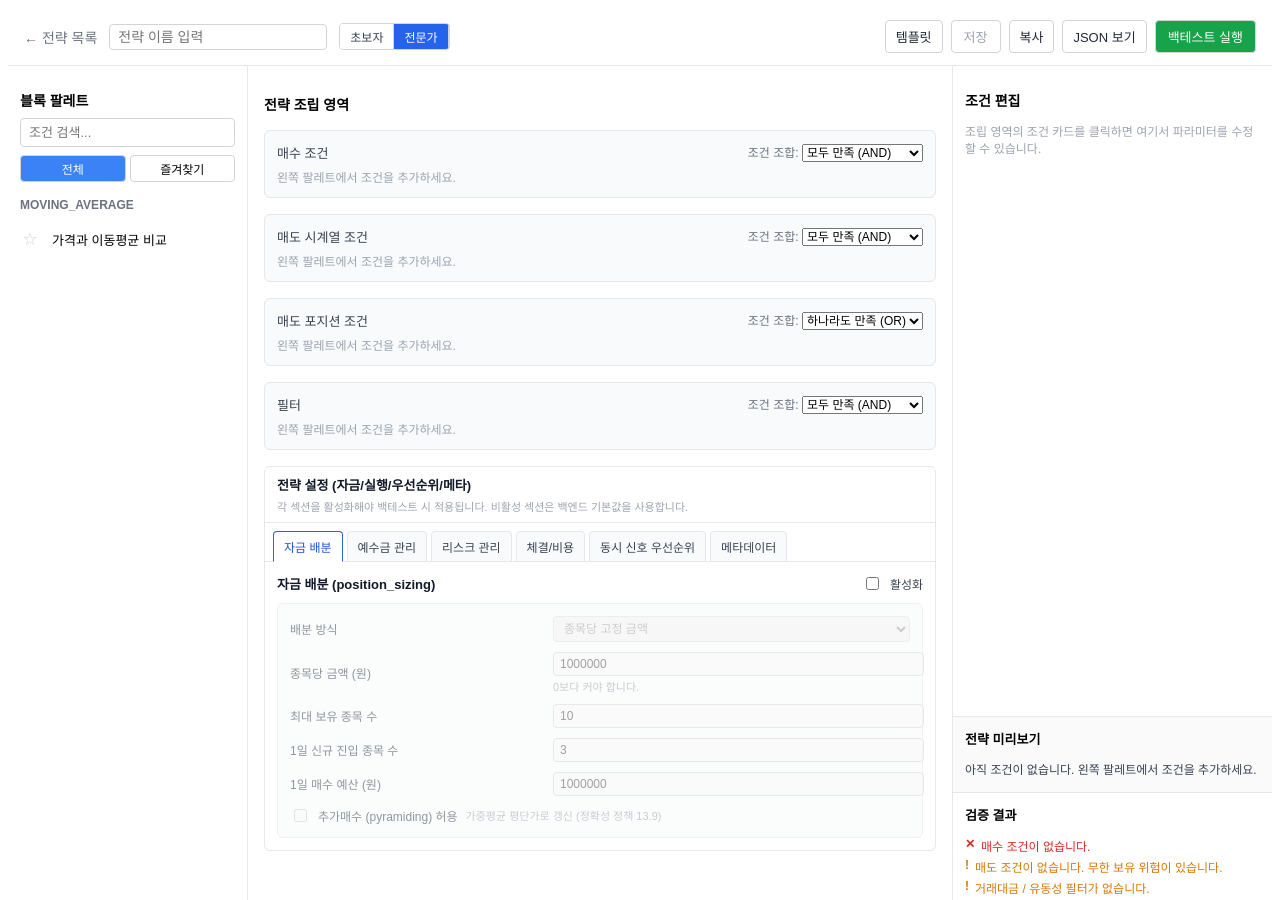
ConditionEditorPanel › number 입력 변경 → 카드 문장과 미리보기 모두 갱신
This screenshot has width=1280, height=900.
Click the button "가격과 이동평균 비교" at (140, 239), box [44,224,235,255]
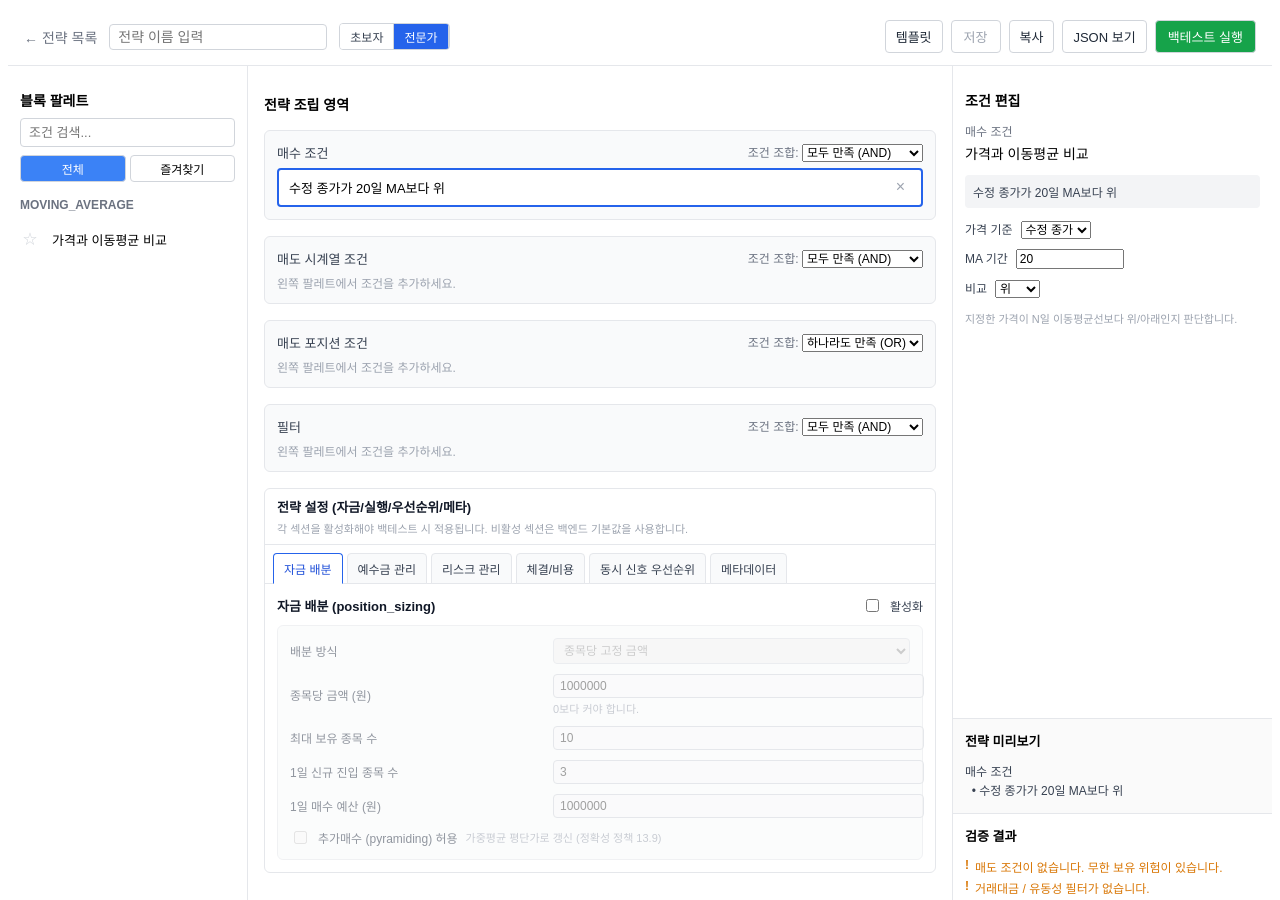
Replace the text in the number field labelled "MA 기간" with "5" at (1070, 259), box [1016,249,1124,269]
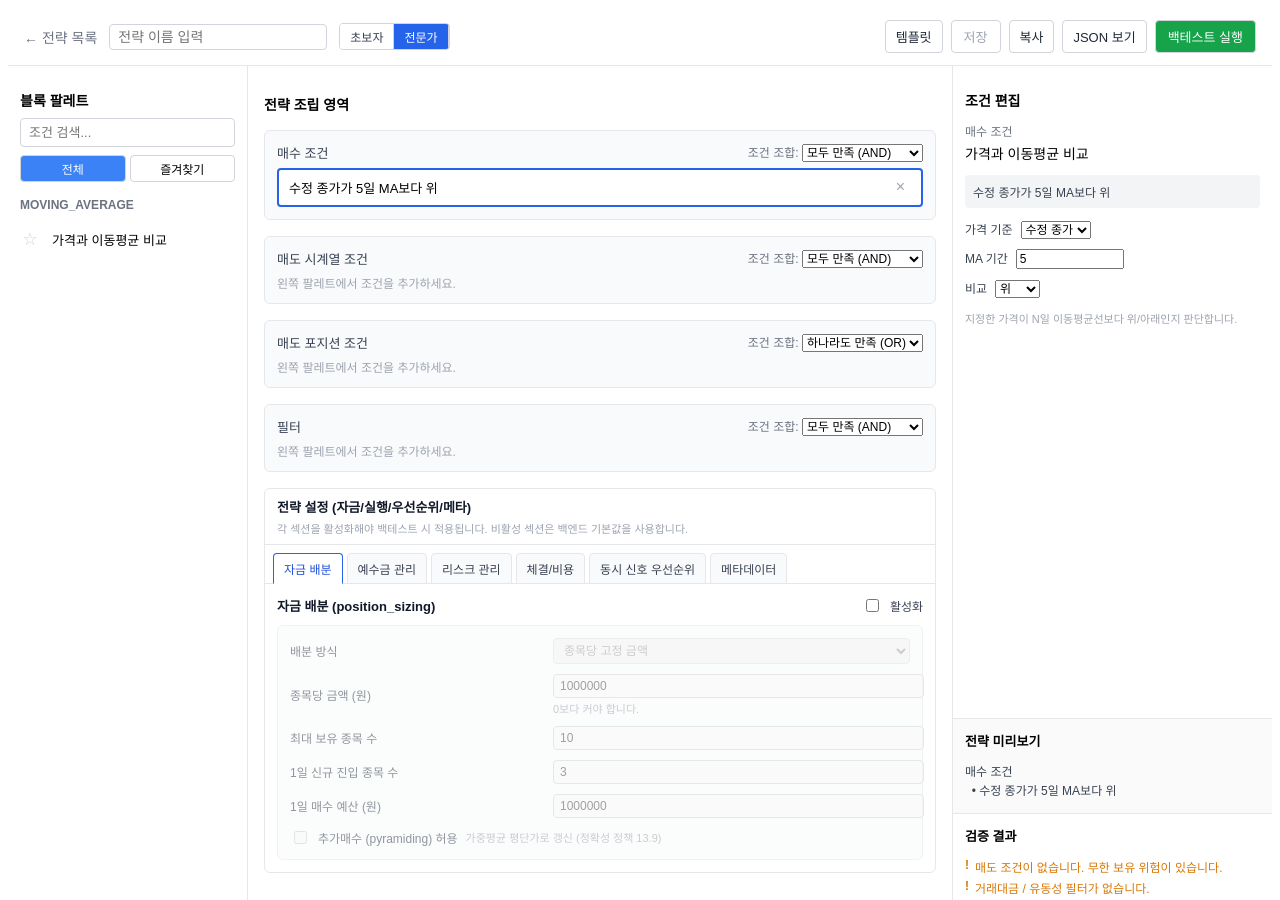
Expected: the text with test id "editor-preview" reads "수정 종가가 5일 MA보다 위", [973,186,1110,200]
Expected: the text "수정 종가가 5일 MA보다 위" below "전략 조립 영역" is shown, [289,181,438,196]
